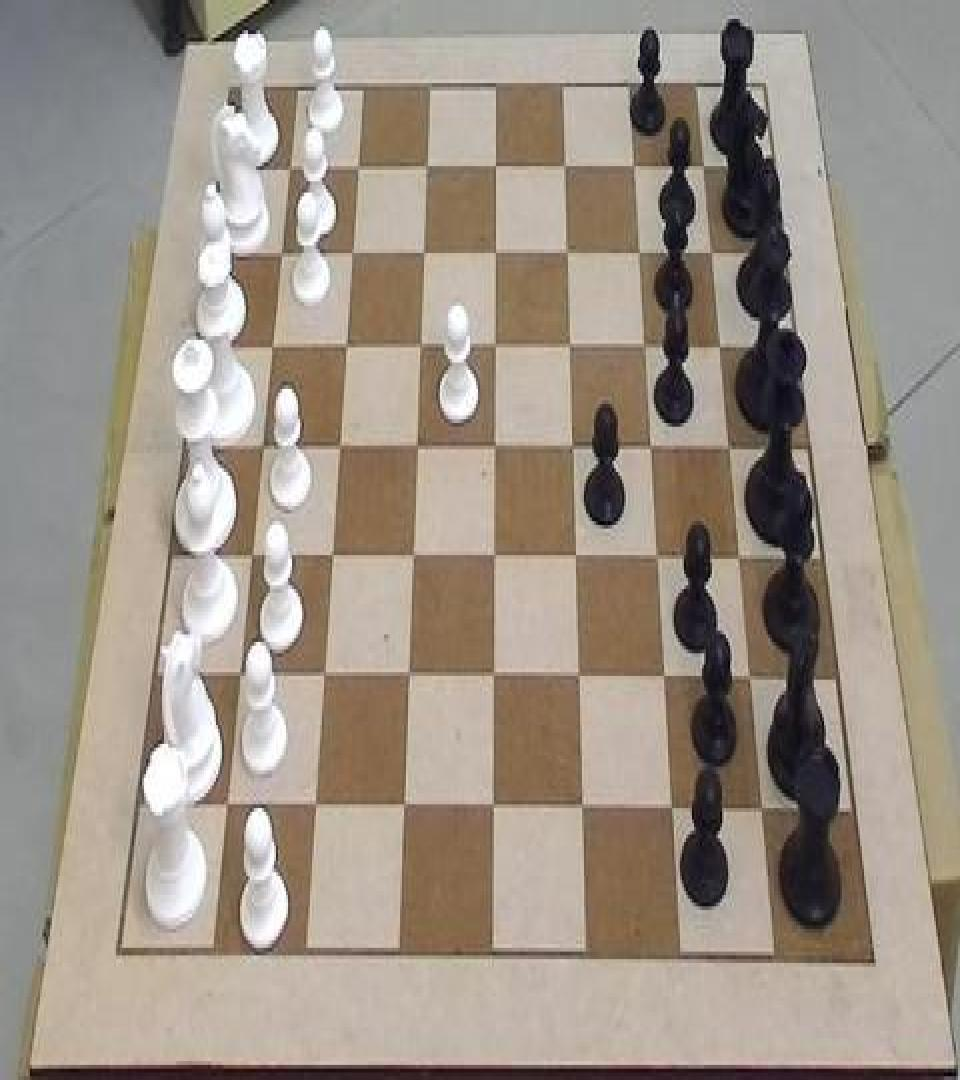xcorner: (692, 146, 712, 184), (622, 146, 642, 184), (552, 146, 572, 184), (482, 146, 502, 184), (413, 146, 433, 184), (343, 146, 363, 184), (275, 146, 295, 184), (700, 232, 720, 270), (627, 232, 647, 270), (555, 232, 575, 270), (482, 232, 502, 270), (410, 232, 430, 270), (338, 232, 358, 270), (267, 232, 287, 270), (709, 324, 729, 362), (633, 324, 653, 362), (557, 324, 577, 362), (482, 324, 502, 362), (407, 324, 427, 362), (332, 324, 352, 362), (258, 324, 278, 362), (719, 426, 739, 464), (640, 426, 660, 464), (561, 426, 581, 464), (482, 424, 502, 462), (404, 424, 424, 462), (326, 424, 346, 462), (249, 424, 269, 462), (729, 538, 749, 576), (647, 536, 667, 574), (564, 536, 584, 574), (482, 536, 502, 574), (401, 534, 421, 572), (319, 534, 339, 572), (238, 534, 258, 572), (741, 659, 761, 697), (654, 657, 674, 695), (568, 657, 588, 695), (482, 655, 502, 693), (397, 655, 417, 693), (312, 653, 332, 691), (227, 653, 247, 691), (754, 791, 774, 829), (663, 789, 683, 827), (572, 789, 592, 827), (482, 787, 502, 825), (393, 786, 413, 824), (304, 784, 324, 822), (215, 784, 235, 822)
